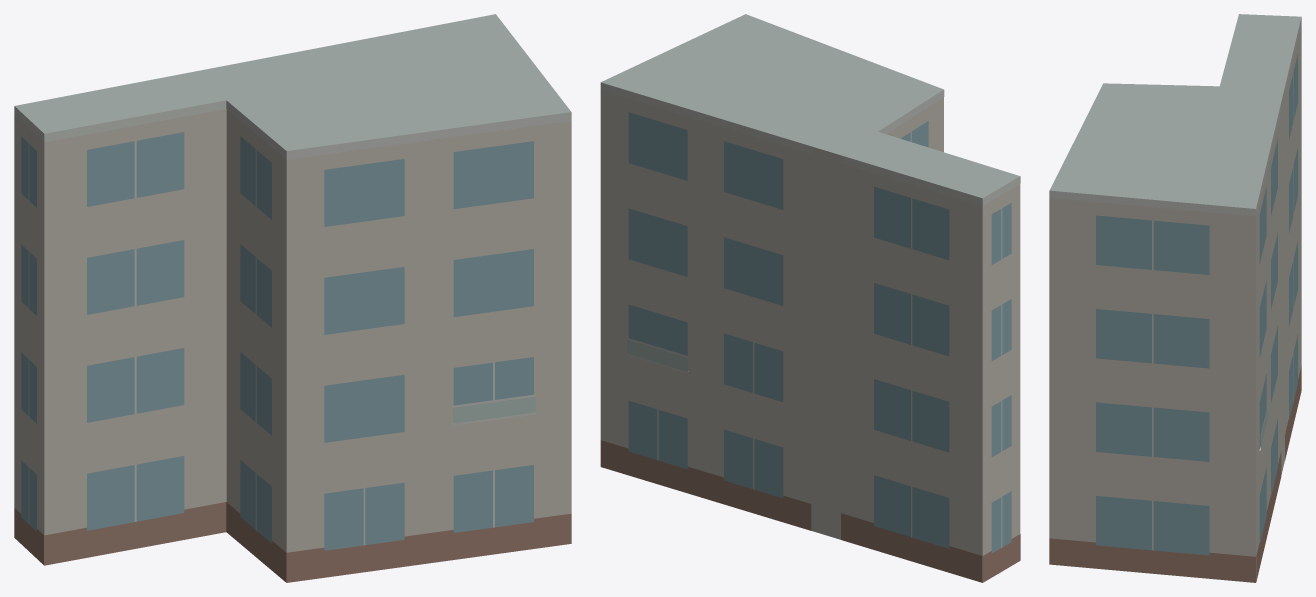
Rendered from survey-upis-33000953.glb.
The picture shows the model from 3 angles, left to right: view 1: azimuth 30°, elevation 25°; view 2: azimuth 150°, elevation 25°; view 3: azimuth 270°, elevation 25°; orthographic projection. The views are drawn at different scales.
Visible parts, largest first — view 1: survey-upis-33000953.tmp; view 2: survey-upis-33000953.tmp; view 3: survey-upis-33000953.tmp.
Boxes of the visible parts, left/top/right/bottom form: survey-upis-33000953.tmp: left=14, top=14, right=571, bottom=582; survey-upis-33000953.tmp: left=600, top=14, right=1020, bottom=582; survey-upis-33000953.tmp: left=1049, top=14, right=1301, bottom=582.
Size of the model in its own units: 13.65 by 12.2 by 7.46.
